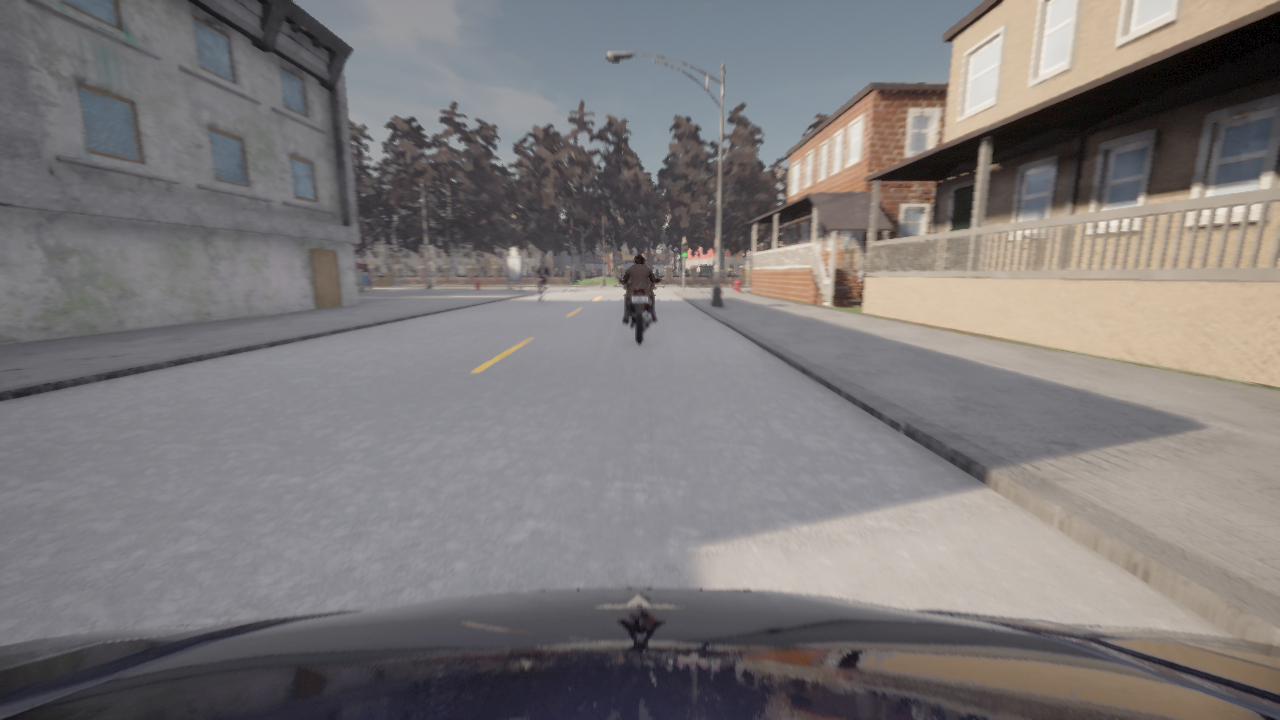cyclist: (0, 588, 1279, 719), (619, 279, 660, 344), (538, 276, 547, 303)
